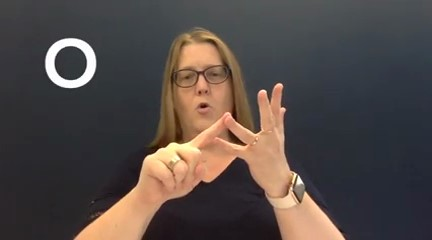O: (131, 77, 300, 204)
